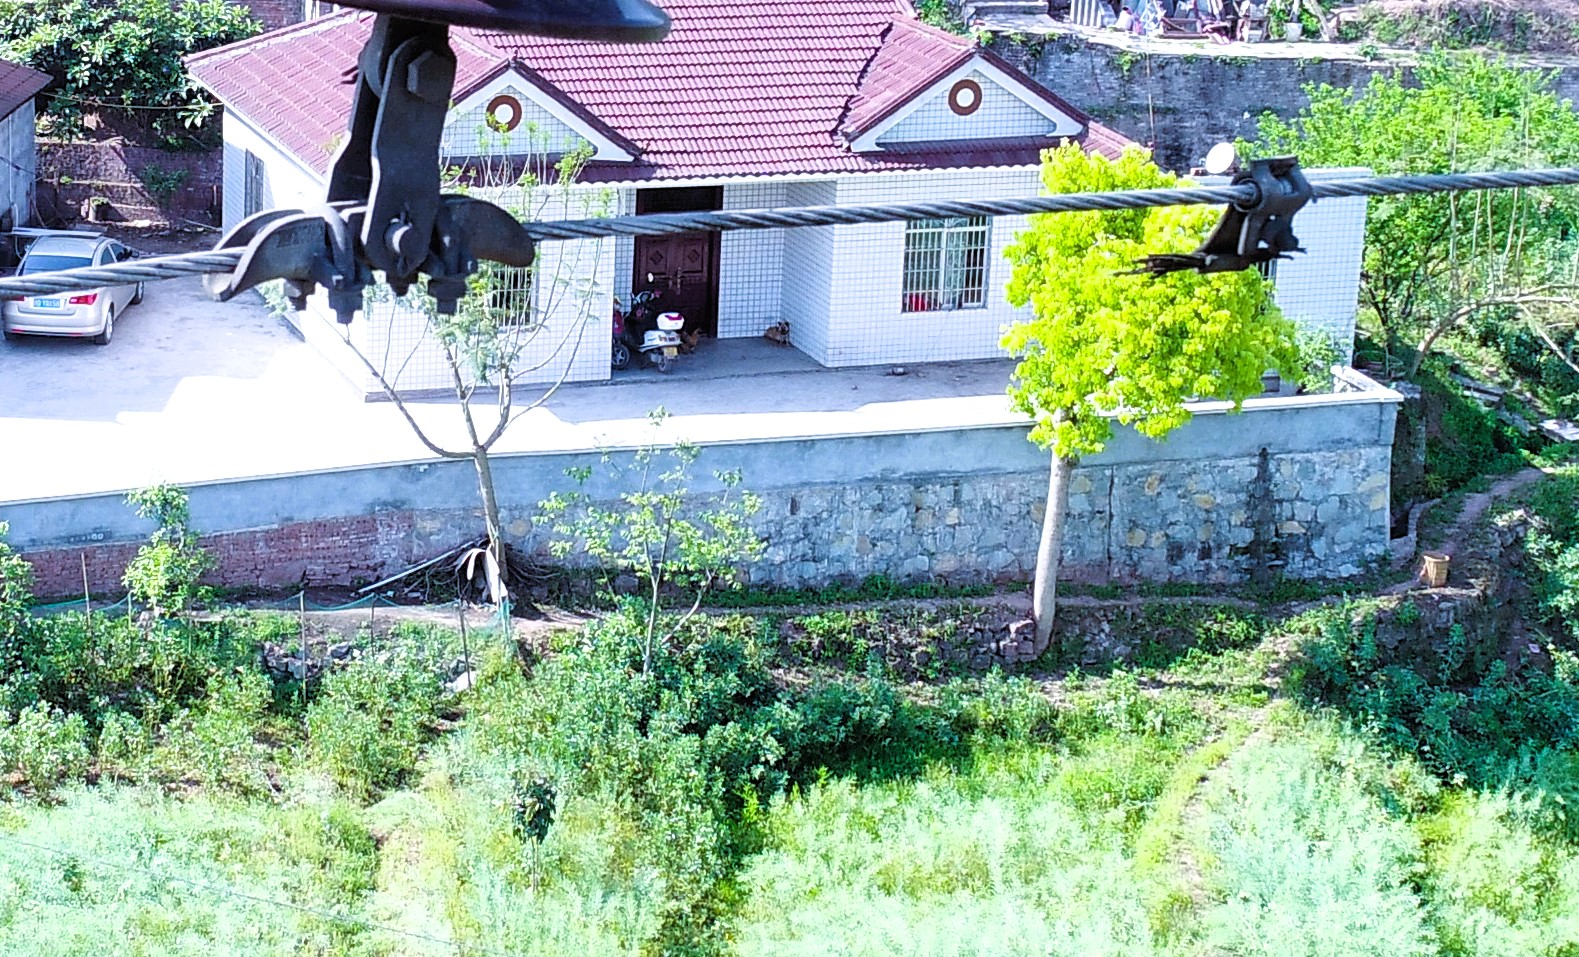Damage of shockproof hammer: (1120, 136, 1346, 294)
